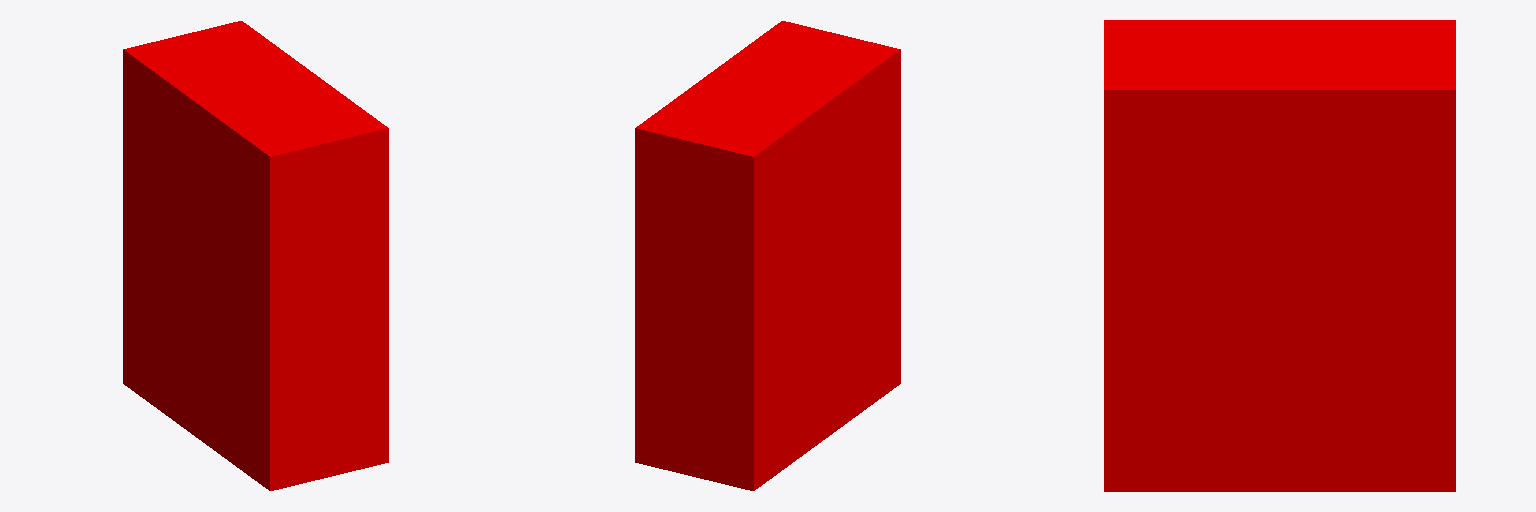
The robot description file, URDF, robot "grasp_collision":
<?xml version='1.0' encoding='utf-8'?>
<robot name="grasp_collision">
  <link name="grasp_collision">
    <contact>
      <lateral_friction value="1.0" />
      <rolling_friction value="0.0" />
    </contact>
    <inertial>
      <origin rpy="0 0 0" xyz="0 0 0" />
       <mass value="0.0" />
       <inertia ixx="1e-3" ixy="0" ixz="0" iyy="1e-3" iyz="0" izz="1e-3" />
    </inertial>
    <visual>
      <origin rpy="0 0 0" xyz="0 0 0" />
      <geometry>
				<mesh filename="grasp_collision.obj" scale="1 1 1" />
      </geometry>
       <material name="red">
        <color rgba="1 0 0 1" />
      </material>
    </visual>
    <collision>
      <origin rpy="0 0 0" xyz="0 0 0" />
      <geometry>
	 	<mesh filename="grasp_collision.obj" scale="1 1 1" />
      </geometry>
    </collision>
  </link>
</robot>

--- What the picture shows (computed from the rendered views, not written in the file) ---
3 views of the same robot in one strip: view 1: azimuth 30°, elevation 25°; view 2: azimuth 150°, elevation 25°; view 3: azimuth 270°, elevation 25° (orthographic).
Robot: grasp_collision — 1 links, 0 joints (none); root link grasp_collision; default pose: all joints at 0.
Links seen in each view (by area): view 1: grasp_collision; view 2: grasp_collision; view 3: grasp_collision.
Link boxes in pixels (<box>): grasp_collision: <box>123,21,388,490</box>; grasp_collision: <box>635,21,900,490</box>; grasp_collision: <box>1104,20,1455,491</box>.
Bounding box of the posed robot: 0.04 × 0.086 × 0.108 m (x, y, z).
Meshes: 1 distinct files referenced, 1 mesh visuals loaded (1 OBJ).